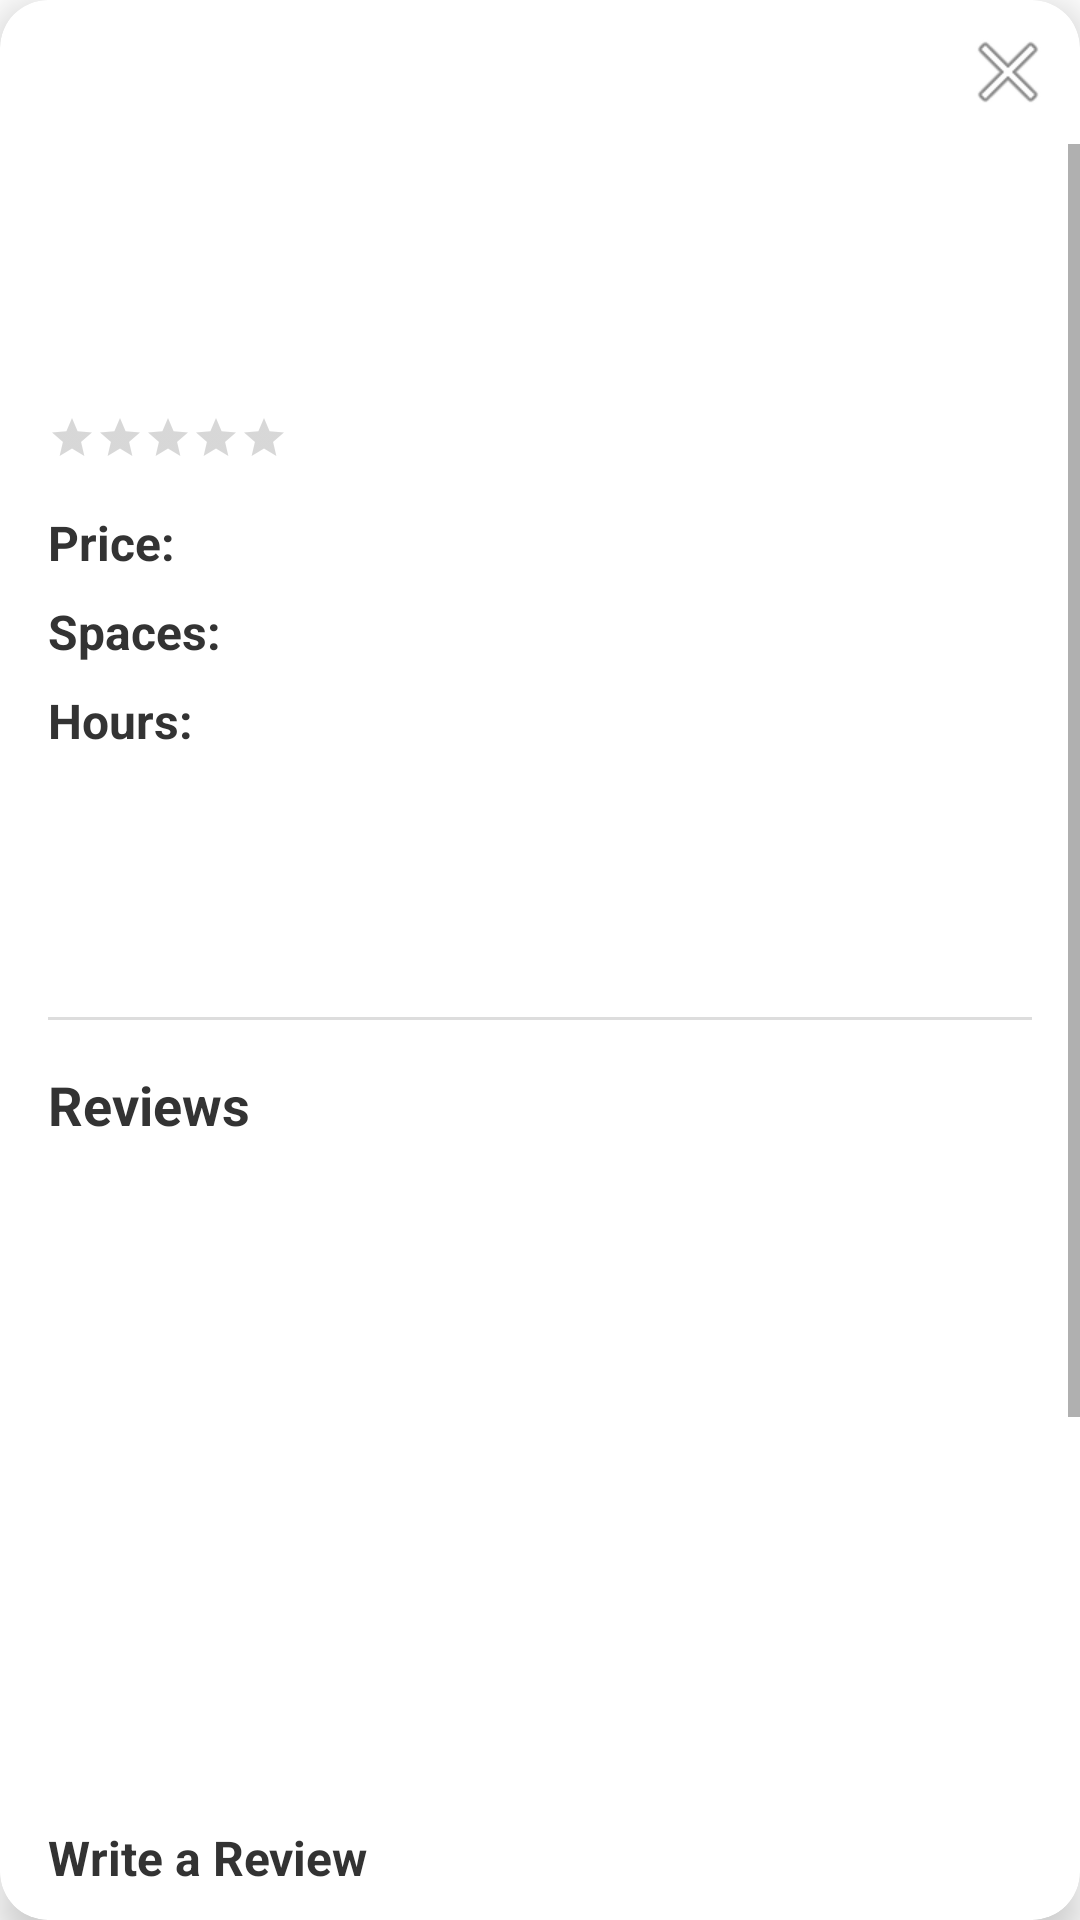

Where icons sit on this 1080*1920 app screen, as (left=x1, top=y1, right=x2, bottom=y2):
Close dialog: (left=978, top=38, right=1080, bottom=102)
